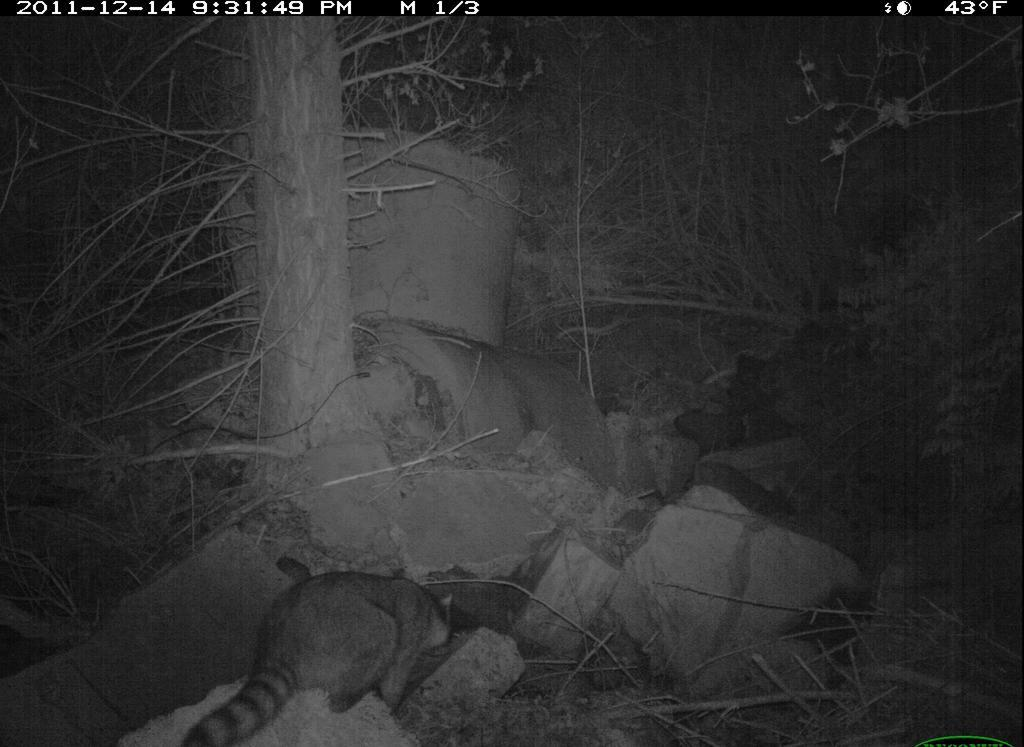raccoon: (171, 565, 473, 747)
